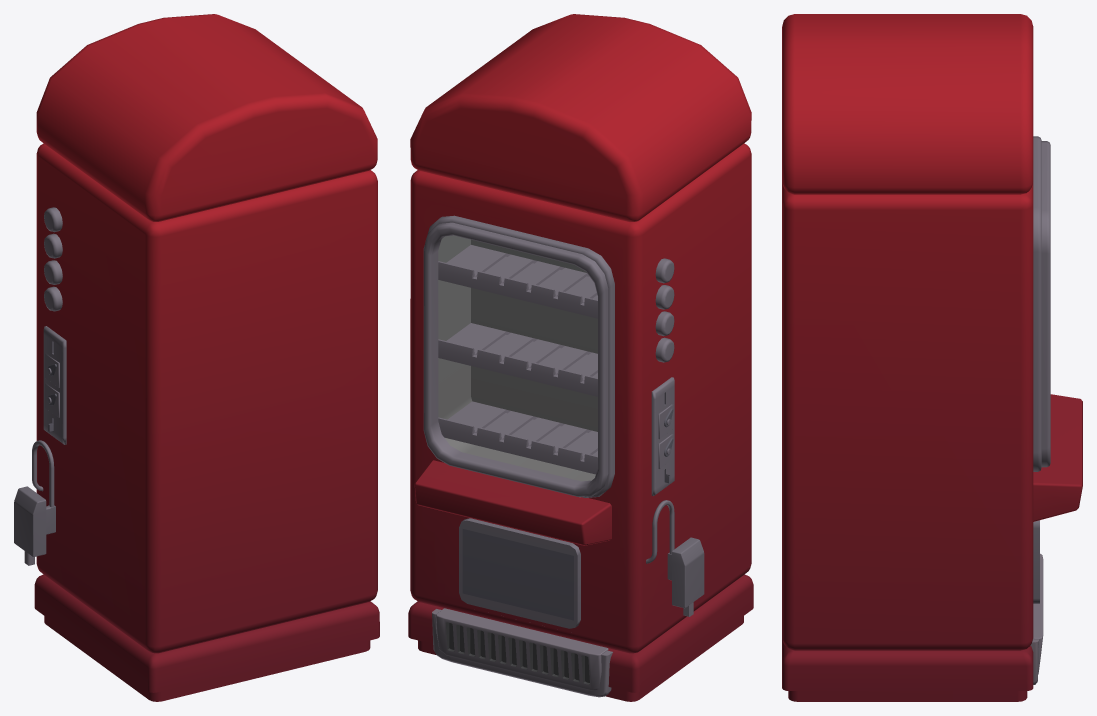
Rendered from togo_otomat_revize.fbx.
The picture shows the model from 3 angles, left to right: view 1: azimuth 30°, elevation 25°; view 2: azimuth 150°, elevation 25°; view 3: azimuth 270°, elevation 25°; orthographic projection. The views are drawn at different scales.
Parts seen in each view (by area): view 1: Plane.001; view 2: Plane.001, Plane.002, Plane.008, Plane.013, Plane.004; view 3: Plane.001.
Boxes of the visible parts, left/top/right/bottom form: Plane.001: left=14, top=14, right=379, bottom=701; Plane.001: left=408, top=14, right=753, bottom=701; Plane.002: left=462, top=529, right=573, bottom=620; Plane.008: left=438, top=323, right=597, bottom=396; Plane.013: left=438, top=401, right=597, bottom=474; Plane.004: left=438, top=245, right=597, bottom=318; Plane.001: left=782, top=14, right=1082, bottom=701.
Size of the model in its own units: 257 by 534 by 239.
